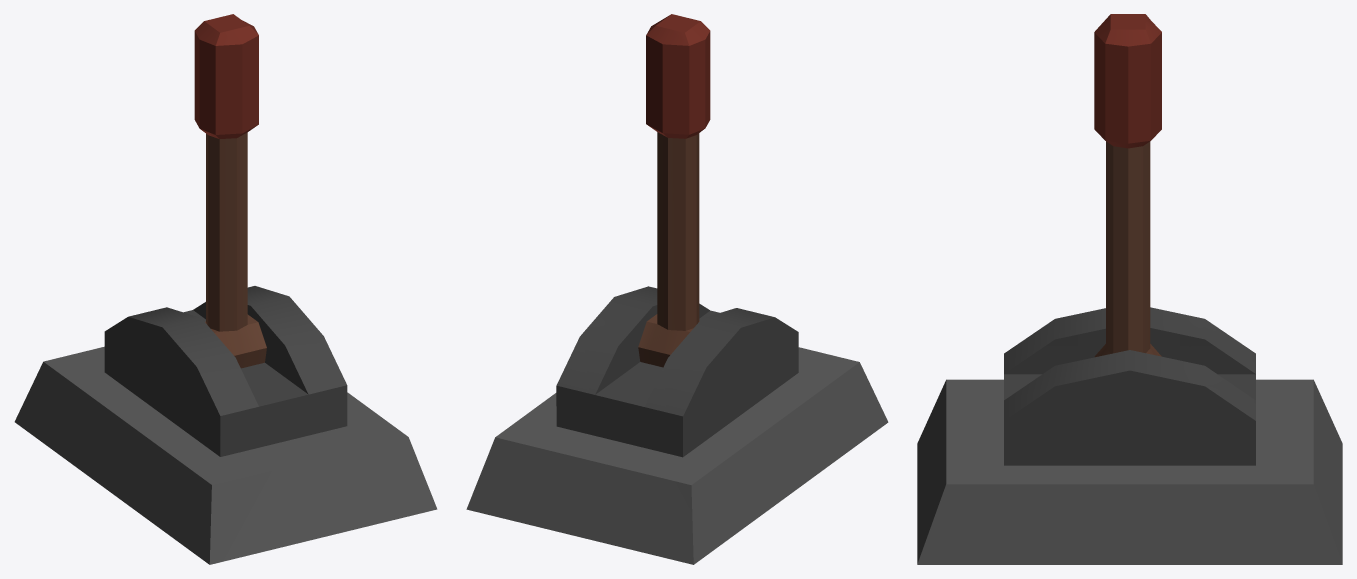
The model's file is Switch.fbx.
3 renders of one model, left to right at view 1: azimuth 30°, elevation 25°; view 2: azimuth 150°, elevation 25°; view 3: azimuth 270°, elevation 25°, orthographic. The views are drawn at different scales.
Visible parts, largest first — view 1: Switch_base, Switch_handle; view 2: Switch_base, Switch_handle; view 3: Switch_base, Switch_handle.
Boxes of the visible parts, x1,y1,x2,y2 form: Switch_base: (14,286,437,564); Switch_handle: (194,14,266,368); Switch_base: (466,286,888,564); Switch_handle: (638,14,710,367); Switch_base: (917,307,1342,564); Switch_handle: (1094,14,1161,357).
Bounding box in the file's own units: 51.05 × 94.85 × 75.8.
